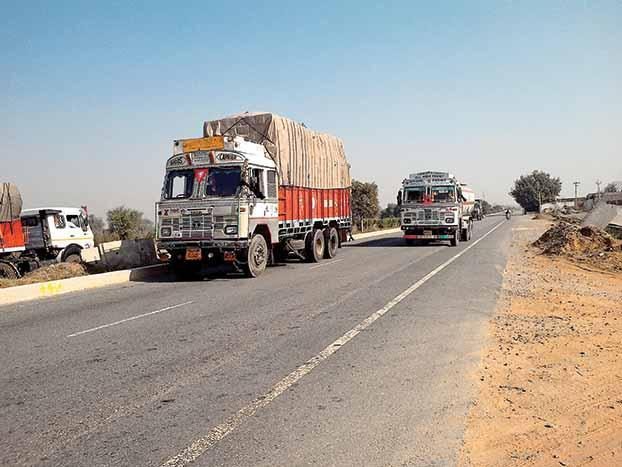truck: (152, 114, 367, 261)
